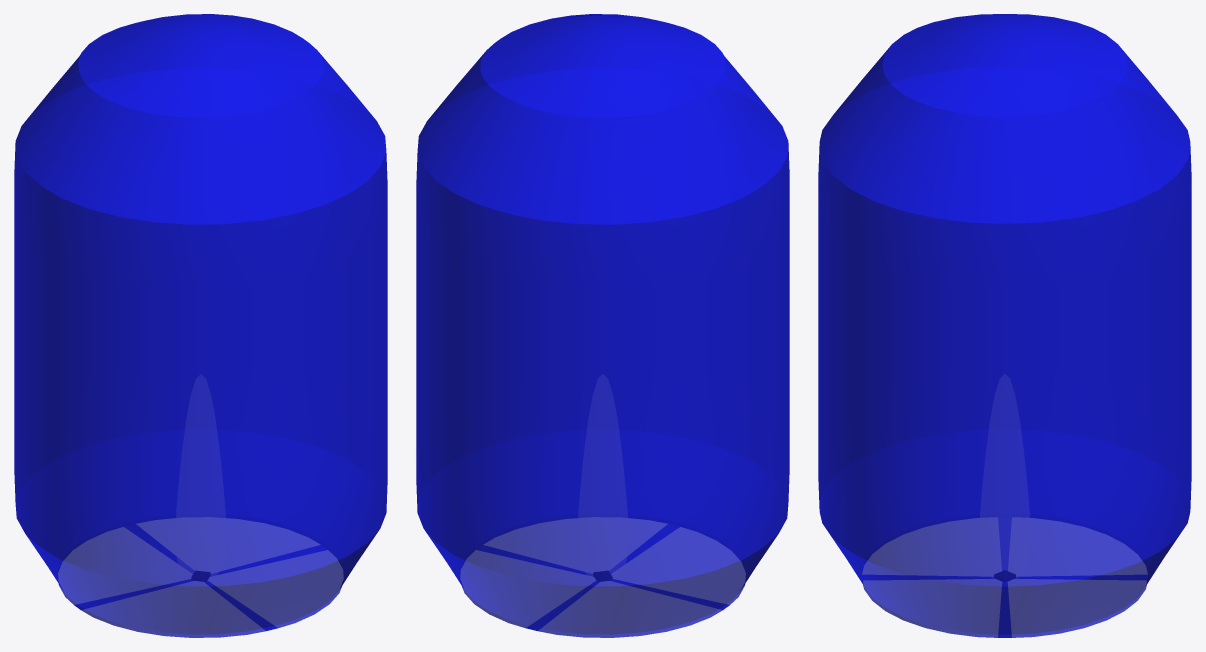
The model's file is blue_lantern_sky_lantern.glb.
3 views of the same model, side by side, from view 1: azimuth 30°, elevation 25°; view 2: azimuth 150°, elevation 25°; view 3: azimuth 270°, elevation 25° (orthographic).
Parts seen in each view (by area): view 1: Blue Lantern_0; view 2: Blue Lantern_0; view 3: Blue Lantern_0.
Boxes of the visible parts, <box> form: Blue Lantern_0: <box>14,14,387,637</box>; Blue Lantern_0: <box>416,14,789,637</box>; Blue Lantern_0: <box>818,14,1191,637</box>.
Size of the model in its own units: 2.06 by 3.35 by 2.06.
